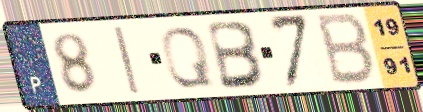7: (268, 12, 314, 92)
8: (49, 31, 99, 95)
B: (315, 11, 378, 87), (205, 19, 269, 92)
I: (110, 24, 143, 96)
Q: (158, 24, 217, 91)
